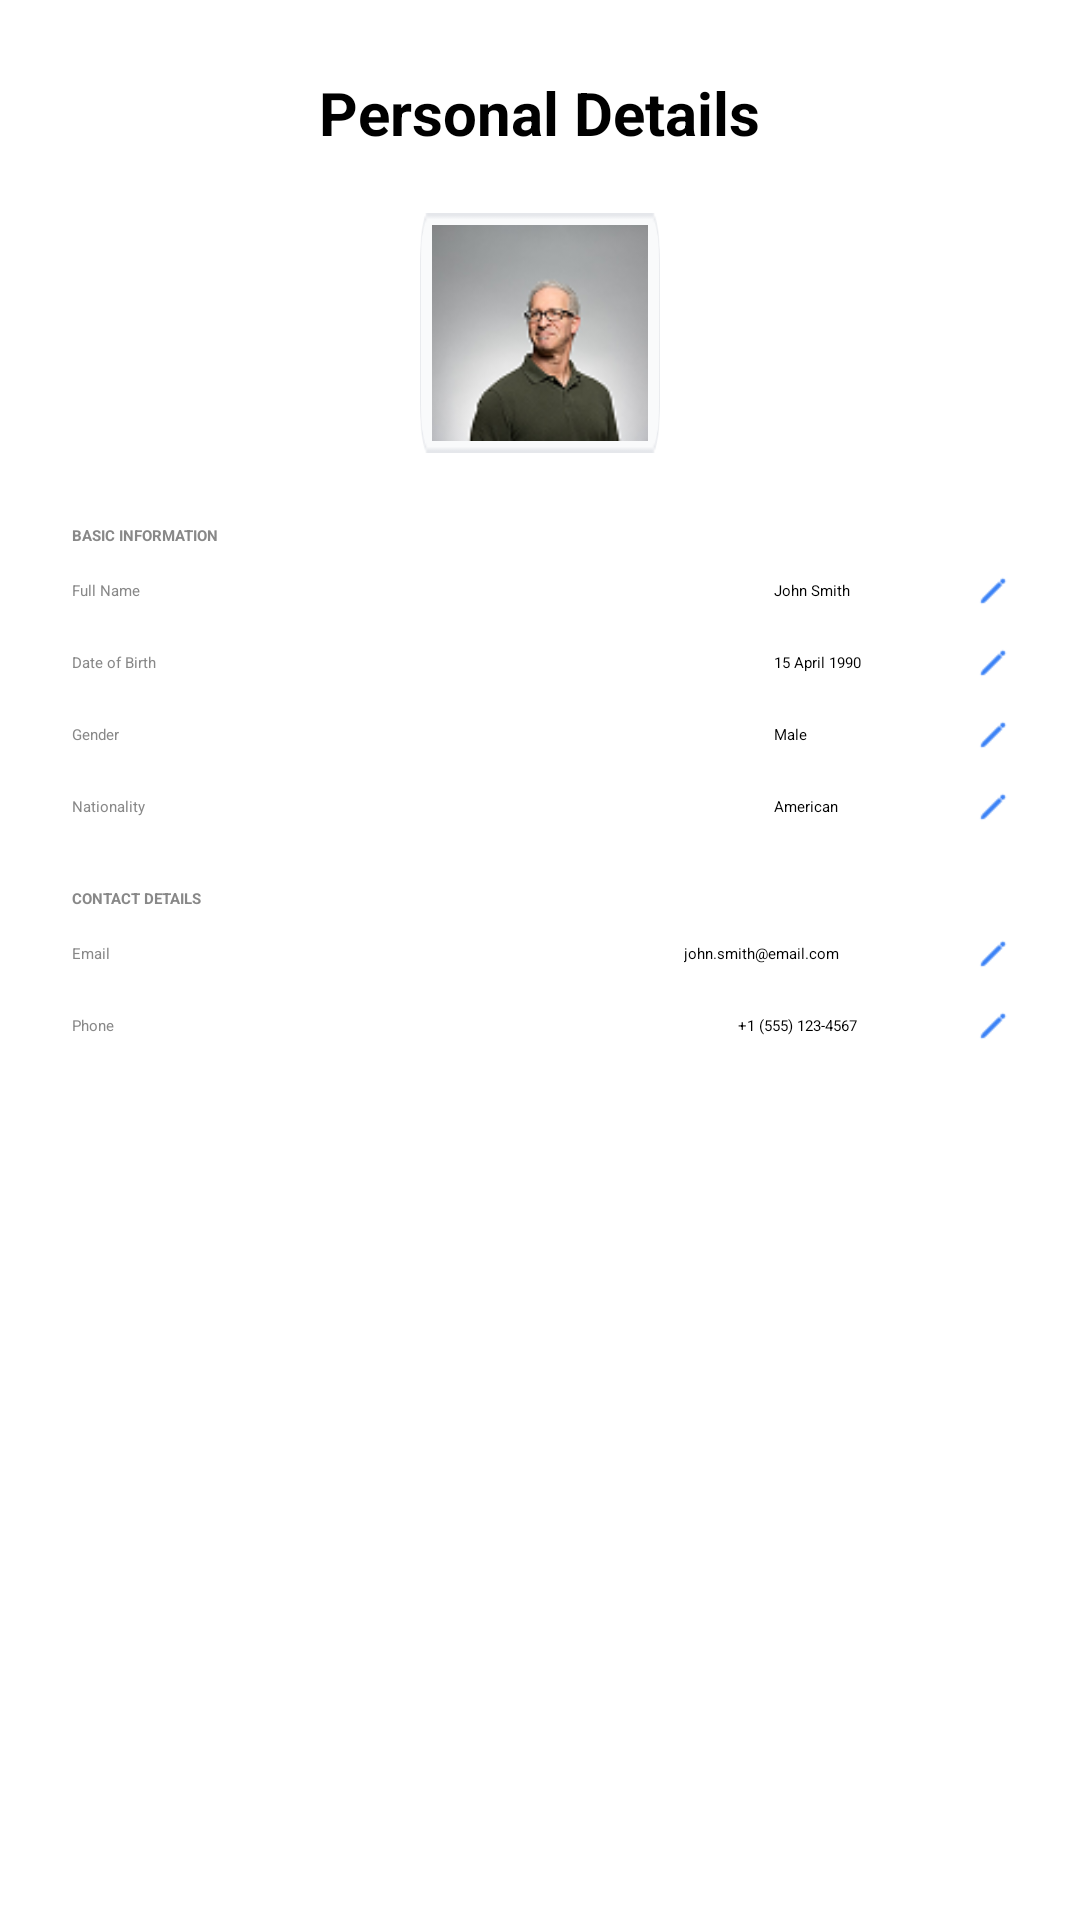

Where icons sit on this 1080×1920 app screen, as [x1, y1, x2, y2]:
edit: [980, 578, 1006, 604], [980, 650, 1006, 676], [980, 722, 1006, 748], [980, 794, 1006, 820], [980, 941, 1006, 967], [980, 1013, 1006, 1039]
Profile Picture: [427, 213, 653, 453]
